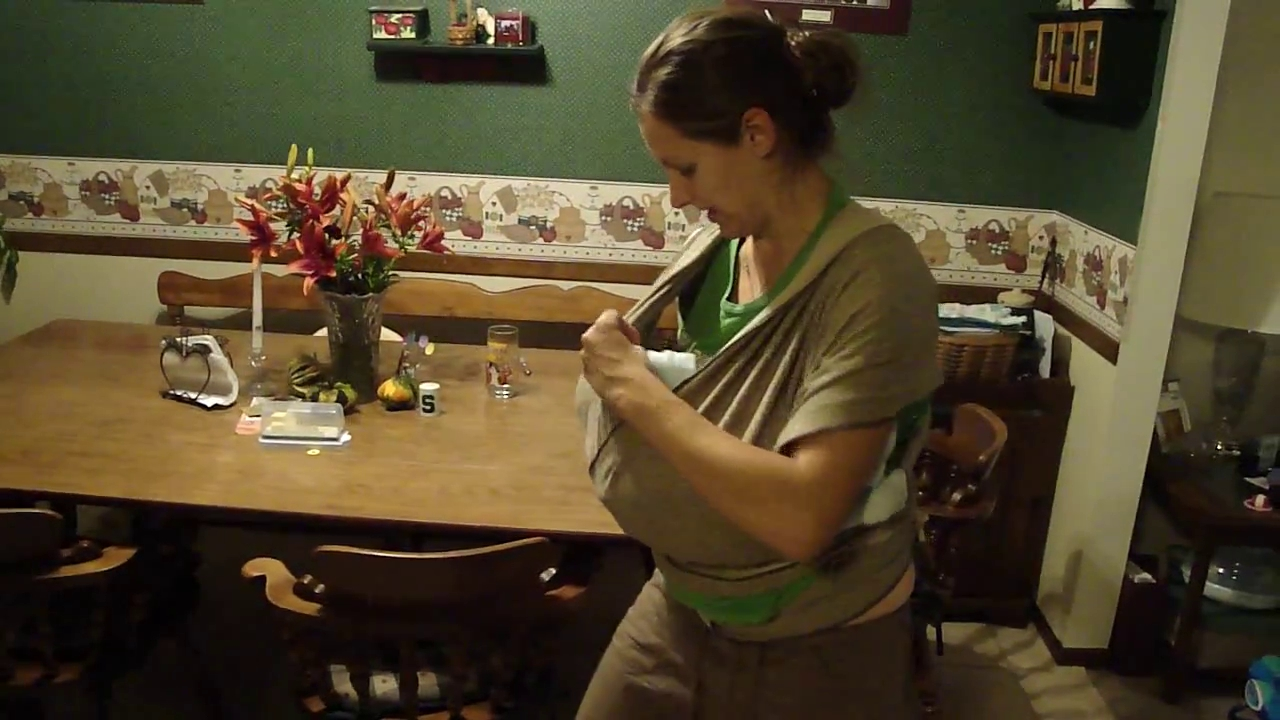person: (574, 11, 944, 718)
